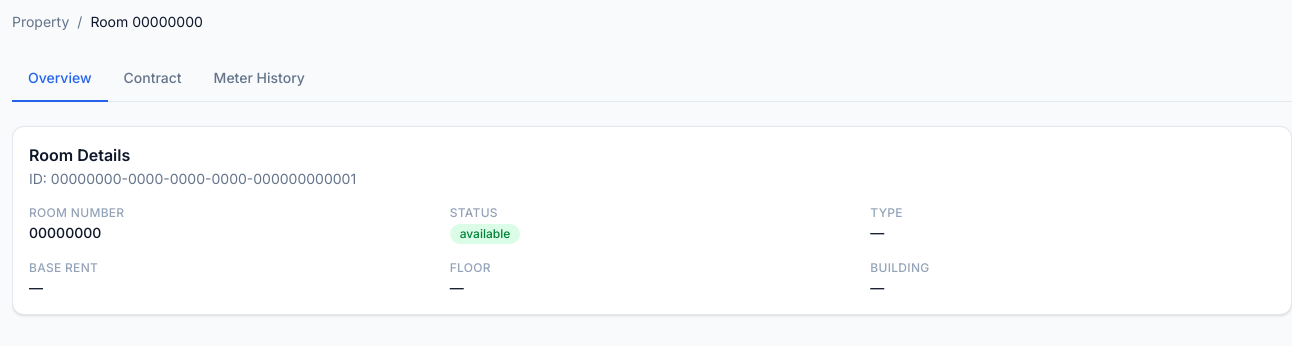
RoomDetailPage › tab switching › switches to Contract tab when clicked
Click the tab "Contract".
click(153, 79)  # box [108,56,198,102]
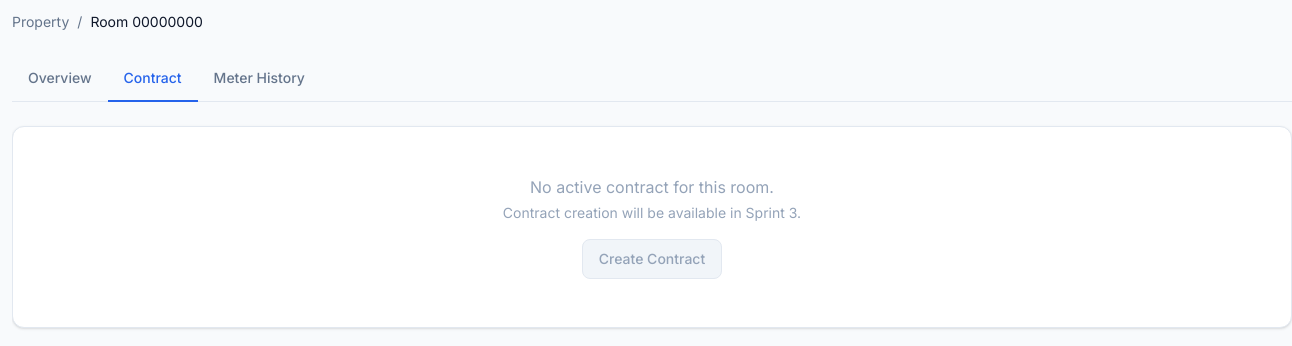
Result: the text "No active contract for this room." is shown at [530,177,774,197]
